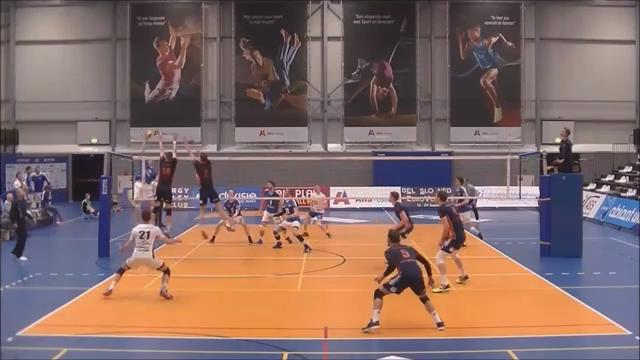Block: (179, 132, 238, 242), (151, 128, 176, 240)
Player: (362, 229, 444, 332), (103, 209, 180, 299), (433, 191, 468, 292), (273, 190, 311, 252), (210, 190, 252, 243), (454, 177, 482, 238), (257, 181, 282, 243), (302, 185, 330, 237), (389, 191, 413, 238), (463, 179, 482, 238)
ball: (146, 129, 153, 139)
